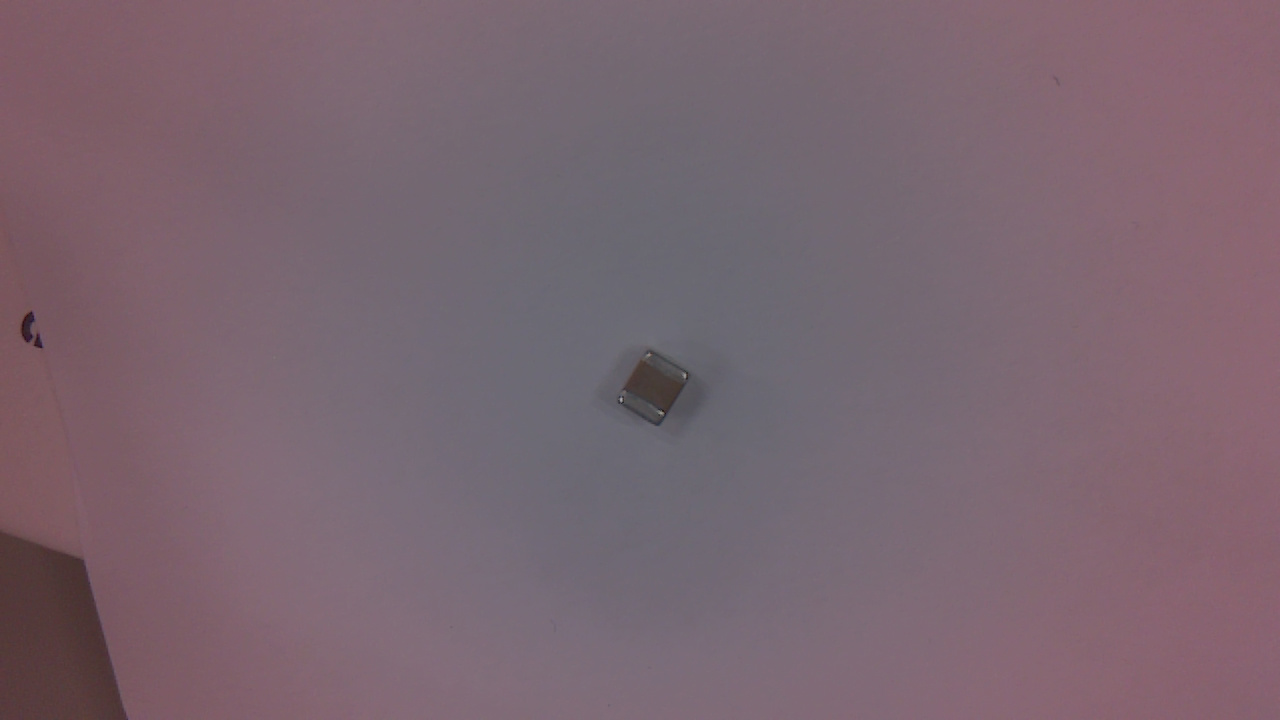Condensator: (621, 357, 692, 429)
